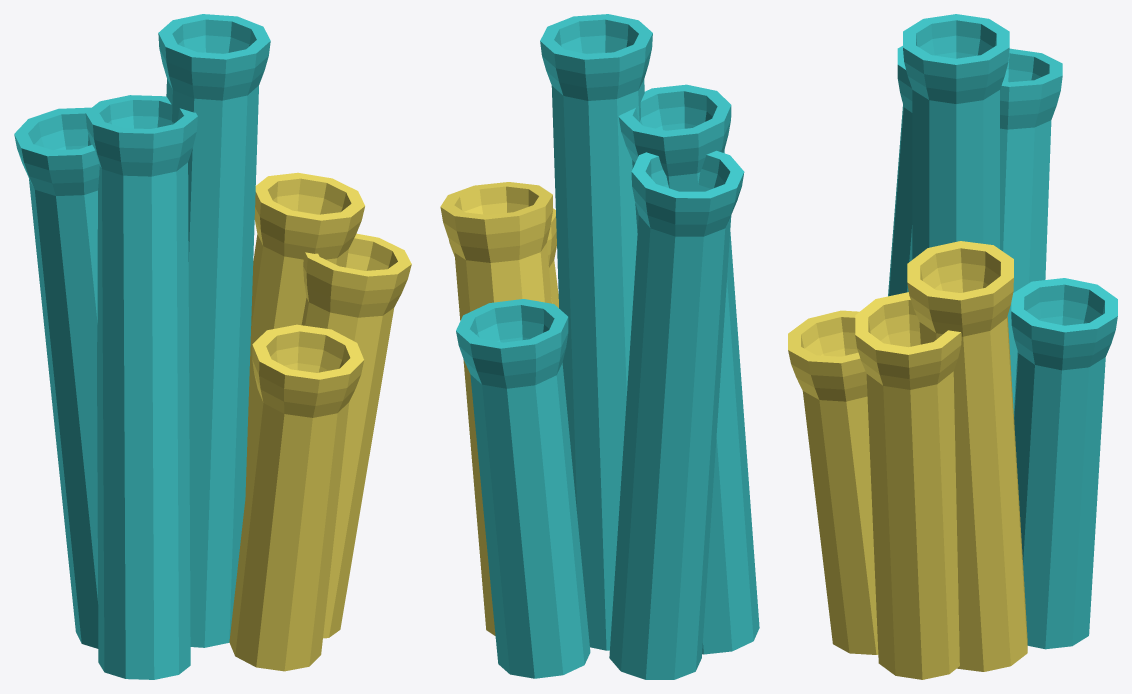
The model's file is TubeCoral_A.fbx.
3 renders of one model, left to right at view 1: azimuth 30°, elevation 25°; view 2: azimuth 150°, elevation 25°; view 3: azimuth 270°, elevation 25°, orthographic.
Parts seen in each view (by area): view 1: TubeCoral_Teal_03, TubeCoral_Teal_01, TubeCoral_Yellow_02, TubeCoral_Teal_02, TubeCoral_Yellow_03, TubeCoral_Yellow_01; view 2: TubeCoral_Teal_02, TubeCoral_Teal_01, TubeCoral_Teal_04, TubeCoral_Teal_03, TubeCoral_Yellow_01, TubeCoral_Yellow_03; view 3: TubeCoral_Yellow_03, TubeCoral_Teal_04, TubeCoral_Yellow_01, TubeCoral_Teal_01, TubeCoral_Yellow_02, TubeCoral_Teal_02, TubeCoral_Teal_03.
Part boxes in pixels (x1,y1,x2,y2): TubeCoral_Teal_03: (85, 95, 197, 679); TubeCoral_Teal_01: (158, 14, 270, 647); TubeCoral_Yellow_02: (229, 324, 363, 671); TubeCoral_Teal_02: (14, 107, 124, 648); TubeCoral_Yellow_03: (301, 233, 411, 638); TubeCoral_Yellow_01: (245, 172, 364, 497); TubeCoral_Teal_02: (609, 150, 744, 679); TubeCoral_Teal_01: (540, 14, 652, 650); TubeCoral_Teal_04: (456, 299, 590, 678); TubeCoral_Teal_03: (618, 84, 759, 654); TubeCoral_Yellow_01: (440, 182, 552, 635); TubeCoral_Yellow_03: (448, 208, 558, 307); TubeCoral_Yellow_03: (855, 292, 961, 679); TubeCoral_Teal_04: (1011, 278, 1117, 649); TubeCoral_Yellow_01: (907, 241, 1027, 671); TubeCoral_Teal_01: (903, 14, 1009, 259); TubeCoral_Yellow_02: (788, 310, 878, 654); TubeCoral_Teal_02: (1000, 48, 1062, 413); TubeCoral_Teal_03: (888, 46, 1001, 296).
Bounding box in the file's own units: 249 × 426 × 215.
